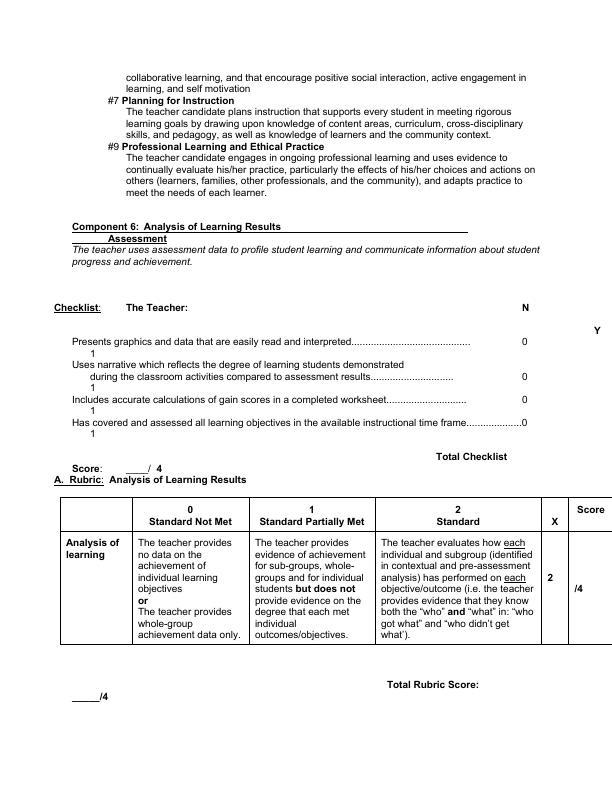input: (71, 687, 99, 708), (123, 453, 147, 476)
table: (55, 493, 612, 654)
text: (103, 69, 545, 203), (65, 336, 547, 441), (72, 242, 549, 273), (70, 216, 286, 234), (51, 298, 192, 315), (52, 475, 249, 486), (381, 673, 484, 693), (428, 448, 513, 464), (66, 460, 103, 473), (146, 461, 170, 473), (515, 299, 536, 312), (586, 324, 605, 338), (99, 688, 114, 703)
